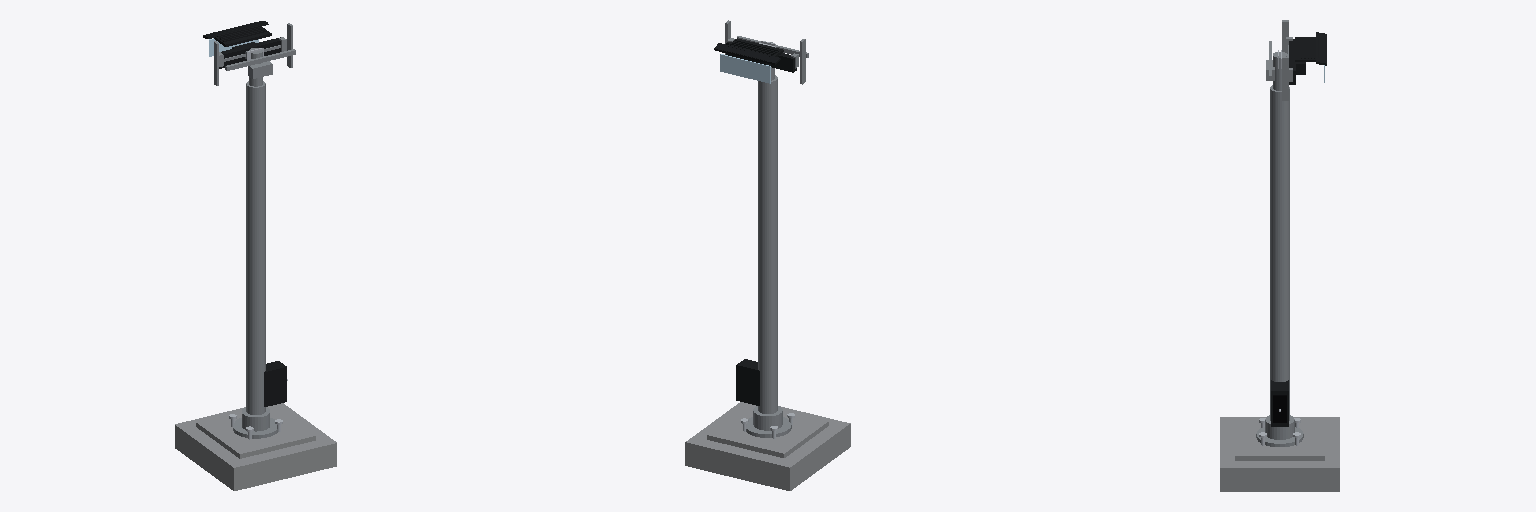
URDF robot description (floodlight_mast):
<robot name="floodlight_mast">
  <material name="concrete">
    <color rgba="0.6 0.61 0.62 1" />
  </material>
  <material name="galvanized_steel">
    <color rgba="0.56 0.58 0.6 1" />
  </material>
  <material name="brushed_steel">
    <color rgba="0.72 0.74 0.77 1" />
  </material>
  <material name="powdercoat_black">
    <color rgba="0.14 0.15 0.16 1" />
  </material>
  <material name="rubber_trim">
    <color rgba="0.06 0.06 0.07 1" />
  </material>
  <material name="glass">
    <color rgba="0.76 0.87 0.94 0.34" />
  </material>
  <link name="foundation">
    <inertial>
      <origin xyz="0 0 -0.1" rpy="0 0 0" />
      <mass value="1600" />
      <inertia ixx="118.187" ixy="0" ixz="0" iyy="118.187" iyz="0" izz="225.707" />
    </inertial>
    <visual name="foundation_block">
      <origin xyz="0 0 -0.1" rpy="0 0 0" />
      <geometry>
        <box size="0.92 0.92 0.2" />
      </geometry>
      <material name="concrete">
        <color rgba="0.6 0.61 0.62 1" />
      </material>
    </visual>
    <visual name="foundation_plinth">
      <origin xyz="0 0 0.015" rpy="0 0 0" />
      <geometry>
        <box size="0.68 0.68 0.05" />
      </geometry>
      <material name="concrete">
        <color rgba="0.6 0.61 0.62 1" />
      </material>
    </visual>
    <collision name="foundation__foundation_block">
      <origin xyz="0 0 -0.1" rpy="0 0 0" />
      <geometry>
        <box size="0.92 0.92 0.2" />
      </geometry>
    </collision>
    <collision name="foundation__foundation_plinth">
      <origin xyz="0 0 0.015" rpy="0 0 0" />
      <geometry>
        <box size="0.68 0.68 0.05" />
      </geometry>
    </collision>
  </link>
  <link name="mast_assembly">
    <inertial>
      <origin xyz="0 -0.01 1.725" rpy="0 0 0" />
      <mass value="340" />
      <inertia ixx="342.236" ixy="0" ixz="0" iyy="351.121" iyz="0" izz="18.8813" />
    </inertial>
    <visual name="base_flange">
      <origin xyz="0 0 0.015" rpy="0 0 0" />
      <geometry>
        <cylinder radius="0.18" length="0.03" />
      </geometry>
      <material name="galvanized_steel">
        <color rgba="0.56 0.58 0.6 1" />
      </material>
    </visual>
    <visual name="anchor_bolt_-0.130_-0.130">
      <origin xyz="-0.13 -0.13 0.045" rpy="0 0 0" />
      <geometry>
        <cylinder radius="0.016" length="0.09" />
      </geometry>
      <material name="brushed_steel">
        <color rgba="0.72 0.74 0.77 1" />
      </material>
    </visual>
    <visual name="anchor_nut_-0.130_-0.130">
      <origin xyz="-0.13 -0.13 0.081" rpy="0 0 0" />
      <geometry>
        <cylinder radius="0.03" length="0.018" />
      </geometry>
      <material name="brushed_steel">
        <color rgba="0.72 0.74 0.77 1" />
      </material>
    </visual>
    <visual name="anchor_bolt_-0.130_+0.130">
      <origin xyz="-0.13 0.13 0.045" rpy="0 0 0" />
      <geometry>
        <cylinder radius="0.016" length="0.09" />
      </geometry>
      <material name="brushed_steel">
        <color rgba="0.72 0.74 0.77 1" />
      </material>
    </visual>
    <visual name="anchor_nut_-0.130_+0.130">
      <origin xyz="-0.13 0.13 0.081" rpy="0 0 0" />
      <geometry>
        <cylinder radius="0.03" length="0.018" />
      </geometry>
      <material name="brushed_steel">
        <color rgba="0.72 0.74 0.77 1" />
      </material>
    </visual>
    <visual name="anchor_bolt_+0.130_-0.130">
      <origin xyz="0.13 -0.13 0.045" rpy="0 0 0" />
      <geometry>
        <cylinder radius="0.016" length="0.09" />
      </geometry>
      <material name="brushed_steel">
        <color rgba="0.72 0.74 0.77 1" />
      </material>
    </visual>
    <visual name="anchor_nut_+0.130_-0.130">
      <origin xyz="0.13 -0.13 0.081" rpy="0 0 0" />
      <geometry>
        <cylinder radius="0.03" length="0.018" />
      </geometry>
      <material name="brushed_steel">
        <color rgba="0.72 0.74 0.77 1" />
      </material>
    </visual>
    <visual name="anchor_bolt_+0.130_+0.130">
      <origin xyz="0.13 0.13 0.045" rpy="0 0 0" />
      <geometry>
        <cylinder radius="0.016" length="0.09" />
      </geometry>
      <material name="brushed_steel">
        <color rgba="0.72 0.74 0.77 1" />
      </material>
    </visual>
    <visual name="anchor_nut_+0.130_+0.130">
      <origin xyz="0.13 0.13 0.081" rpy="0 0 0" />
      <geometry>
        <cylinder radius="0.03" length="0.018" />
      </geometry>
      <material name="brushed_steel">
        <color rgba="0.72 0.74 0.77 1" />
      </material>
    </visual>
    <visual name="base_collar">
      <origin xyz="0 0 0.09" rpy="0 0 0" />
      <geometry>
        <cylinder radius="0.112" length="0.12" />
      </geometry>
      <material name="galvanized_steel">
        <color rgba="0.56 0.58 0.6 1" />
      </material>
    </visual>
    <visual name="mast_tube">
      <origin xyz="0 0 1.53" rpy="0 0 0" />
      <geometry>
        <cylinder radius="0.075" length="2.82" />
      </geometry>
      <material name="galvanized_steel">
        <color rgba="0.56 0.58 0.6 1" />
      </material>
    </visual>
    <visual name="mast_reducer">
      <origin xyz="0 0 3.08" rpy="0 0 0" />
      <geometry>
        <cylinder radius="0.055" length="0.28" />
      </geometry>
      <material name="galvanized_steel">
        <color rgba="0.56 0.58 0.6 1" />
      </material>
    </visual>
    <visual name="service_box">
      <origin xyz="0.13 0 0.35" rpy="0 0 0" />
      <geometry>
        <box size="0.22 0.13 0.3" />
      </geometry>
      <material name="powdercoat_black">
        <color rgba="0.14 0.15 0.16 1" />
      </material>
    </visual>
    <visual name="service_door">
      <origin xyz="0.236 0 0.35" rpy="0 0 0" />
      <geometry>
        <box size="0.012 0.112 0.232" />
      </geometry>
      <material name="rubber_trim">
        <color rgba="0.06 0.06 0.07 1" />
      </material>
    </visual>
    <visual name="service_handle">
      <origin xyz="0.248 0 0.35" rpy="0 1.5708 0" />
      <geometry>
        <cylinder radius="0.007" length="0.065" />
      </geometry>
      <material name="brushed_steel">
        <color rgba="0.72 0.74 0.77 1" />
      </material>
    </visual>
    <visual name="feed_conduit">
      <geometry>
        <mesh filename="meshes/feed_conduit.glb" />
      </geometry>
      <material name="brushed_steel">
        <color rgba="0.72 0.74 0.77 1" />
      </material>
    </visual>
    <visual name="yoke_saddle">
      <origin xyz="0 -0.07 3.085" rpy="0 0 0" />
      <geometry>
        <box size="0.18 0.07 0.09" />
      </geometry>
      <material name="galvanized_steel">
        <color rgba="0.56 0.58 0.6 1" />
      </material>
    </visual>
    <visual name="rear_tilt_rail">
      <origin xyz="0 -0.074 3.17" rpy="0 0 0" />
      <geometry>
        <box size="0.62 0.026 0.036" />
      </geometry>
      <material name="galvanized_steel">
        <color rgba="0.56 0.58 0.6 1" />
      </material>
    </visual>
    <visual name="pivot_clevis">
      <origin xyz="0 -0.01 3.18" rpy="0 0 0" />
      <geometry>
        <box size="0.12 0.012 0.11" />
      </geometry>
      <material name="brushed_steel">
        <color rgba="0.72 0.74 0.77 1" />
      </material>
    </visual>
    <visual name="yoke_arm_-0.310">
      <origin xyz="-0.3286 0.04 3.17" rpy="0 0 0" />
      <geometry>
        <box size="0.022 0.052 0.36" />
      </geometry>
      <material name="galvanized_steel">
        <color rgba="0.56 0.58 0.6 1" />
      </material>
    </visual>
    <visual name="yoke_arm_+0.310">
      <origin xyz="0.3286 0.04 3.17" rpy="0 0 0" />
      <geometry>
        <box size="0.022 0.052 0.36" />
      </geometry>
      <material name="galvanized_steel">
        <color rgba="0.56 0.58 0.6 1" />
      </material>
    </visual>
    <visual name="yoke_braces">
      <geometry>
        <mesh filename="meshes/yoke_braces.glb" />
      </geometry>
      <material name="galvanized_steel">
        <color rgba="0.56 0.58 0.6 1" />
      </material>
    </visual>
    <collision name="mast_assembly__base_flange">
      <origin xyz="0 0 0.015" rpy="0 0 0" />
      <geometry>
        <cylinder radius="0.18" length="0.03" />
      </geometry>
    </collision>
    <collision name="mast_assembly__anchor_bolt__0_130__0_130">
      <origin xyz="-0.13 -0.13 0.045" rpy="0 0 0" />
      <geometry>
        <cylinder radius="0.016" length="0.09" />
      </geometry>
    </collision>
    <collision name="mast_assembly__anchor_nut__0_130__0_130">
      <origin xyz="-0.13 -0.13 0.081" rpy="0 0 0" />
      <geometry>
        <cylinder radius="0.03" length="0.018" />
      </geometry>
    </collision>
    <collision name="mast_assembly__anchor_bolt__0_130__0_130">
      <origin xyz="-0.13 0.13 0.045" rpy="0 0 0" />
      <geometry>
        <cylinder radius="0.016" length="0.09" />
      </geometry>
    </collision>
    <collision name="mast_assembly__anchor_nut__0_130__0_130">
      <origin xyz="-0.13 0.13 0.081" rpy="0 0 0" />
      <geometry>
        <cylinder radius="0.03" length="0.018" />
      </geometry>
    </collision>
    <collision name="mast_assembly__anchor_bolt__0_130__0_130">
      <origin xyz="0.13 -0.13 0.045" rpy="0 0 0" />
      <geometry>
        <cylinder radius="0.016" length="0.09" />
      </geometry>
    </collision>
    <collision name="mast_assembly__anchor_nut__0_130__0_130">
      <origin xyz="0.13 -0.13 0.081" rpy="0 0 0" />
      <geometry>
        <cylinder radius="0.03" length="0.018" />
      </geometry>
    </collision>
    <collision name="mast_assembly__anchor_bolt__0_130__0_130">
      <origin xyz="0.13 0.13 0.045" rpy="0 0 0" />
      <geometry>
        <cylinder radius="0.016" length="0.09" />
      </geometry>
    </collision>
    <collision name="mast_assembly__anchor_nut__0_130__0_130">
      <origin xyz="0.13 0.13 0.081" rpy="0 0 0" />
      <geometry>
        <cylinder radius="0.03" length="0.018" />
      </geometry>
    </collision>
    <collision name="mast_assembly__base_collar">
      <origin xyz="0 0 0.09" rpy="0 0 0" />
      <geometry>
        <cylinder radius="0.112" length="0.12" />
      </geometry>
    </collision>
    <collision name="mast_assembly__mast_tube">
      <origin xyz="0 0 1.53" rpy="0 0 0" />
      <geometry>
        <cylinder radius="0.075" length="2.82" />
      </geometry>
    </collision>
    <collision name="mast_assembly__mast_reducer">
      <origin xyz="0 0 3.08" rpy="0 0 0" />
      <geometry>
        <cylinder radius="0.055" length="0.28" />
      </geometry>
    </collision>
    <collision name="mast_assembly__service_box">
      <origin xyz="0.13 0 0.35" rpy="0 0 0" />
      <geometry>
        <box size="0.22 0.13 0.3" />
      </geometry>
    </collision>
    <collision name="mast_assembly__service_door">
      <origin xyz="0.236 0 0.35" rpy="0 0 0" />
      <geometry>
        <box size="0.012 0.112 0.232" />
      </geometry>
    </collision>
    <collision name="mast_assembly__service_handle">
      <origin xyz="0.248 0 0.35" rpy="0 1.5708 0" />
      <geometry>
        <cylinder radius="0.007" length="0.065" />
      </geometry>
    </collision>
    <collision name="mast_assembly__feed_conduit__hull_001">
      <geometry>
        <mesh filename="meshes/collision/cache/70537ffb329152c3a35ef3c9__hull_001.obj" />
      </geometry>
    </collision>
    <collision name="mast_assembly__yoke_saddle">
      <origin xyz="0 -0.07 3.085" rpy="0 0 0" />
      <geometry>
        <box size="0.18 0.07 0.09" />
      </geometry>
    </collision>
    <collision name="mast_assembly__rear_tilt_rail">
      <origin xyz="0 -0.074 3.17" rpy="0 0 0" />
      <geometry>
        <box size="0.62 0.026 0.036" />
      </geometry>
    </collision>
    <collision name="mast_assembly__pivot_clevis">
      <origin xyz="0 -0.01 3.18" rpy="0 0 0" />
      <geometry>
        <box size="0.12 0.012 0.11" />
      </geometry>
    </collision>
    <collision name="mast_assembly__yoke_arm__0_310">
      <origin xyz="-0.3286 0.04 3.17" rpy="0 0 0" />
      <geometry>
        <box size="0.022 0.052 0.36" />
      </geometry>
    </collision>
    <collision name="mast_assembly__yoke_arm__0_310">
      <origin xyz="0.3286 0.04 3.17" rpy="0 0 0" />
      <geometry>
        <box size="0.022 0.052 0.36" />
      </geometry>
    </collision>
    <collision name="mast_assembly__yoke_braces__hull_001">
      <geometry>
        <mesh filename="meshes/collision/cache/171ba8d0a9862df2e3e22ec7__hull_001.obj" />
      </geometry>
    </collision>
    <collision name="mast_assembly__yoke_braces__hull_002">
      <geometry>
        <mesh filename="meshes/collision/cache/171ba8d0a9862df2e3e22ec7__hull_002.obj" />
      </geometry>
    </collision>
  </link>
  <link name="lamp_head">
    <inertial>
      <origin xyz="0 0.155 0.008" rpy="0 0 0" />
      <mass value="46" />
      <inertia ixx="0.627517" ixy="0" ixz="0" iyy="1.46127" iyz="0" izz="1.57052" />
    </inertial>
    <visual name="trunnion_tie_bar">
      <origin xyz="0 0.072 -0.01" rpy="0 0 0" />
      <geometry>
        <box size="0.56 0.02 0.024" />
      </geometry>
      <material name="galvanized_steel">
        <color rgba="0.56 0.58 0.6 1" />
      </material>
    </visual>
    <visual name="pivot_spine">
      <origin xyz="0 0.01 -0.004" rpy="0 0 0" />
      <geometry>
        <box size="0.15 0.012 0.09" />
      </geometry>
      <material name="brushed_steel">
        <color rgba="0.72 0.74 0.77 1" />
      </material>
    </visual>
    <visual name="pivot_hanger">
      <origin xyz="0 0.045 -0.012" rpy="0 0 0" />
      <geometry>
        <box size="0.11 0.07 0.06" />
      </geometry>
      <material name="galvanized_steel">
        <color rgba="0.56 0.58 0.6 1" />
      </material>
    </visual>
    <visual name="rear_chassis_crossmember">
      <origin xyz="0 0.096 -0.02" rpy="0 0 0" />
      <geometry>
        <box size="0.59 0.055 0.115" />
      </geometry>
      <material name="powdercoat_black">
        <color rgba="0.14 0.15 0.16 1" />
      </material>
    </visual>
    <visual name="left_trunnion_block">
      <origin xyz="-0.28 0.074 -0.002" rpy="0 0 0" />
      <geometry>
        <box size="0.04 0.052 0.1" />
      </geometry>
      <material name="galvanized_steel">
        <color rgba="0.56 0.58 0.6 1" />
      </material>
    </visual>
    <visual name="right_trunnion_block">
      <origin xyz="0.28 0.074 -0.002" rpy="0 0 0" />
      <geometry>
        <box size="0.04 0.052 0.1" />
      </geometry>
      <material name="galvanized_steel">
        <color rgba="0.56 0.58 0.6 1" />
      </material>
    </visual>
    <visual name="lamp_shell">
      <origin xyz="0 0.07 -0.035" rpy="0 0 0" />
      <geometry>
        <mesh filename="meshes/lamp_shell.glb" />
      </geometry>
      <material name="powdercoat_black">
        <color rgba="0.14 0.15 0.16 1" />
      </material>
    </visual>
    <visual name="bezel_frame">
      <origin xyz="0 0.328 -0.025" rpy="0 0 0" />
      <geometry>
        <mesh filename="meshes/lamp_bezel.glb" />
      </geometry>
      <material name="rubber_trim">
        <color rgba="0.06 0.06 0.07 1" />
      </material>
    </visual>
    <visual name="lens">
      <origin xyz="0 0.341 -0.025" rpy="0 0 0" />
      <geometry>
        <box size="0.442 0.01 0.145" />
      </geometry>
      <material name="glass">
        <color rgba="0.76 0.87 0.94 0.34" />
      </material>
    </visual>
    <visual name="visor">
      <origin xyz="0 0.316 0.089" rpy="-0.18 0 0" />
      <geometry>
        <box size="0.54 0.082 0.018" />
      </geometry>
      <material name="powdercoat_black">
        <color rgba="0.14 0.15 0.16 1" />
      </material>
    </visual>
    <visual name="heatsink_backplate">
      <origin xyz="0 0.235 0.082" rpy="0 0 0" />
      <geometry>
        <box size="0.41 0.24 0.022" />
      </geometry>
      <material name="powdercoat_black">
        <color rgba="0.14 0.15 0.16 1" />
      </material>
    </visual>
    <visual name="cooling_fin_0">
      <origin xyz="0 0.165 0.089" rpy="0 0 0" />
      <geometry>
        <box size="0.385 0.01 0.028" />
      </geometry>
      <material name="powdercoat_black">
        <color rgba="0.14 0.15 0.16 1" />
      </material>
    </visual>
    <visual name="cooling_fin_1">
      <origin xyz="0 0.19 0.089" rpy="0 0 0" />
      <geometry>
        <box size="0.385 0.01 0.028" />
      </geometry>
      <material name="powdercoat_black">
        <color rgba="0.14 0.15 0.16 1" />
      </material>
    </visual>
    <visual name="cooling_fin_2">
      <origin xyz="0 0.215 0.089" rpy="0 0 0" />
      <geometry>
        <box size="0.385 0.01 0.028" />
      </geometry>
      <material name="powdercoat_black">
        <color rgba="0.14 0.15 0.16 1" />
      </material>
    </visual>
    <visual name="cooling_fin_3">
      <origin xyz="0 0.24 0.089" rpy="0 0 0" />
      <geometry>
        <box size="0.385 0.01 0.028" />
      </geometry>
      <material name="powdercoat_black">
        <color rgba="0.14 0.15 0.16 1" />
      </material>
    </visual>
    <visual name="cooling_fin_4">
      <origin xyz="0 0.265 0.089" rpy="0 0 0" />
      <geometry>
        <box size="0.385 0.01 0.028" />
      </geometry>
      <material name="powdercoat_black">
        <color rgba="0.14 0.15 0.16 1" />
      </material>
    </visual>
    <visual name="cooling_fin_5">
      <origin xyz="0 0.29 0.089" rpy="0 0 0" />
      <geometry>
        <box size="0.385 0.01 0.028" />
      </geometry>
      <material name="powdercoat_black">
        <color rgba="0.14 0.15 0.16 1" />
      </material>
    </visual>
    <visual name="driver_housing">
      <origin xyz="0 0.16 -0.035" rpy="0 0 0" />
      <geometry>
        <box size="0.2 0.08 0.095" />
      </geometry>
      <material name="powdercoat_black">
        <color rgba="0.14 0.15 0.16 1" />
      </material>
    </visual>
    <collision name="lamp_head__trunnion_tie_bar">
      <origin xyz="0 0.072 -0.01" rpy="0 0 0" />
      <geometry>
        <box size="0.56 0.02 0.024" />
      </geometry>
    </collision>
    <collision name="lamp_head__pivot_spine">
      <origin xyz="0 0.01 -0.004" rpy="0 0 0" />
      <geometry>
        <box size="0.15 0.012 0.09" />
      </geometry>
    </collision>
    <collision name="lamp_head__pivot_hanger">
      <origin xyz="0 0.045 -0.012" rpy="0 0 0" />
      <geometry>
        <box size="0.11 0.07 0.06" />
      </geometry>
    </collision>
    <collision name="lamp_head__rear_chassis_crossmember">
      <origin xyz="0 0.096 -0.02" rpy="0 0 0" />
      <geometry>
        <box size="0.59 0.055 0.115" />
      </geometry>
    </collision>
    <collision name="lamp_head__left_trunnion_block">
      <origin xyz="-0.28 0.074 -0.002" rpy="0 0 0" />
      <geometry>
        <box size="0.04 0.052 0.1" />
      </geometry>
    </collision>
    <collision name="lamp_head__right_trunnion_block">
      <origin xyz="0.28 0.074 -0.002" rpy="0 0 0" />
      <geometry>
        <box size="0.04 0.052 0.1" />
      </geometry>
    </collision>
    <collision name="lamp_head__lamp_shell__hull_001">
      <origin xyz="0 0.07 -0.035" rpy="0 0 0" />
      <geometry>
        <mesh filename="meshes/collision/cache/30d17555784dde96c06c916d__hull_001.obj" />
      </geometry>
    </collision>
    <collision name="lamp_head__bezel_frame__hull_001">
      <origin xyz="0 0.328 -0.025" rpy="0 0 0" />
      <geometry>
        <mesh filename="meshes/collision/cache/4733fa970f57e95ccd44897e__hull_001.obj" />
      </geometry>
    </collision>
    <collision name="lamp_head__bezel_frame__hull_002">
      <origin xyz="0 0.328 -0.025" rpy="0 0 0" />
      <geometry>
        <mesh filename="meshes/collision/cache/4733fa970f57e95ccd44897e__hull_002.obj" />
      </geometry>
    </collision>
    <collision name="lamp_head__bezel_frame__hull_003">
      <origin xyz="0 0.328 -0.025" rpy="0 0 0" />
      <geometry>
        <mesh filename="meshes/collision/cache/4733fa970f57e95ccd44897e__hull_003.obj" />
      </geometry>
    </collision>
    <collision name="lamp_head__bezel_frame__hull_004">
      <origin xyz="0 0.328 -0.025" rpy="0 0 0" />
      <geometry>
        <mesh filename="meshes/collision/cache/4733fa970f57e95ccd44897e__hull_004.obj" />
      </geometry>
    </collision>
    <collision name="lamp_head__bezel_frame__hull_005">
      <origin xyz="0 0.328 -0.025" rpy="0 0 0" />
      <geometry>
        <mesh filename="meshes/collision/cache/4733fa970f57e95ccd44897e__hull_005.obj" />
      </geometry>
    </collision>
    <collision name="lamp_head__lens">
      <origin xyz="0 0.341 -0.025" rpy="0 0 0" />
      <geometry>
        <box size="0.442 0.01 0.145" />
      </geometry>
    </collision>
    <collision name="lamp_head__visor">
      <origin xyz="0 0.316 0.089" rpy="-0.18 0 0" />
      <geometry>
        <box size="0.54 0.082 0.018" />
      </geometry>
    </collision>
    <collision name="lamp_head__heatsink_backplate">
      <origin xyz="0 0.235 0.082" rpy="0 0 0" />
      <geometry>
        <box size="0.41 0.24 0.022" />
      </geometry>
    </collision>
    <collision name="lamp_head__cooling_fin_0">
      <origin xyz="0 0.165 0.089" rpy="0 0 0" />
      <geometry>
        <box size="0.385 0.01 0.028" />
      </geometry>
    </collision>
    <collision name="lamp_head__cooling_fin_1">
      <origin xyz="0 0.19 0.089" rpy="0 0 0" />
      <geometry>
        <box size="0.385 0.01 0.028" />
      </geometry>
    </collision>
    <collision name="lamp_head__cooling_fin_2">
      <origin xyz="0 0.215 0.089" rpy="0 0 0" />
      <geometry>
        <box size="0.385 0.01 0.028" />
      </geometry>
    </collision>
    <collision name="lamp_head__cooling_fin_3">
      <origin xyz="0 0.24 0.089" rpy="0 0 0" />
      <geometry>
        <box size="0.385 0.01 0.028" />
      </geometry>
    </collision>
    <collision name="lamp_head__cooling_fin_4">
      <origin xyz="0 0.265 0.089" rpy="0 0 0" />
      <geometry>
        <box size="0.385 0.01 0.028" />
      </geometry>
    </collision>
    <collision name="lamp_head__cooling_fin_5">
      <origin xyz="0 0.29 0.089" rpy="0 0 0" />
      <geometry>
        <box size="0.385 0.01 0.028" />
      </geometry>
    </collision>
    <collision name="lamp_head__driver_housing">
      <origin xyz="0 0.16 -0.035" rpy="0 0 0" />
      <geometry>
        <box size="0.2 0.08 0.095" />
      </geometry>
    </collision>
  </link>
  <joint name="foundation_to_mast" type="fixed">
    <origin xyz="0 0 0.04" rpy="0 0 0" />
    <parent link="foundation" />
    <child link="mast_assembly" />
  </joint>
  <joint name="lamp_tilt" type="revolute">
    <origin xyz="0 0 3.18" rpy="0 0 0" />
    <parent link="mast_assembly" />
    <child link="lamp_head" />
    <axis xyz="1 0 0" />
    <limit effort="600" velocity="0.8" lower="-0.35" upper="1" />
  </joint>
</robot>

--- What the picture shows (computed from the rendered views, not written in the file) ---
3 views of the same robot in one strip: view 1: azimuth 30°, elevation 25°; view 2: azimuth 150°, elevation 25°; view 3: azimuth 270°, elevation 25° (orthographic).
Model floodlight_mast with 3 links and 2 joints (1 revolute, 1 fixed), rooted at foundation, posed every joint at zero.
Links seen in each view (by area): view 1: mast_assembly, foundation, lamp_head; view 2: mast_assembly, foundation, lamp_head; view 3: mast_assembly, foundation, lamp_head.
Link boxes in pixels (x1,y1,x2,y2): mast_assembly: (214,23,295,439); foundation: (175,403,336,490); lamp_head: (203,21,286,68); mast_assembly: (725,20,808,438); foundation: (685,402,850,490); lamp_head: (714,38,798,83); mast_assembly: (1256,20,1303,446); foundation: (1220,417,1339,491); lamp_head: (1281,32,1326,84).
Bounding box of the posed robot: 0.92 × 0.92 × 3.59 m (x, y, z).
Meshes: 4 distinct files referenced, 0 mesh visuals loaded (none loaded); not drawn: 4 (reference not matched to a file when rendering).
